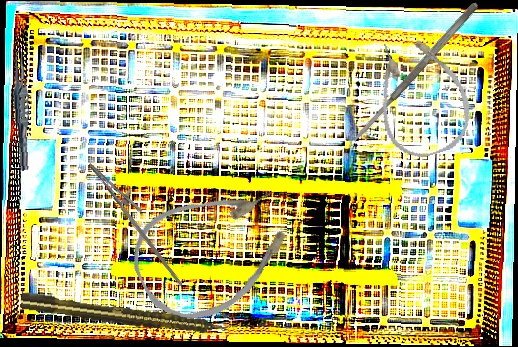Cannula: (117, 163, 311, 339), (360, 25, 482, 166)
Handpiece: (19, 290, 233, 340)
Needle Holder: (75, 154, 204, 287)
Spatula Surgical: (348, 0, 481, 146)
Tissue Forceps: (9, 47, 34, 171)
